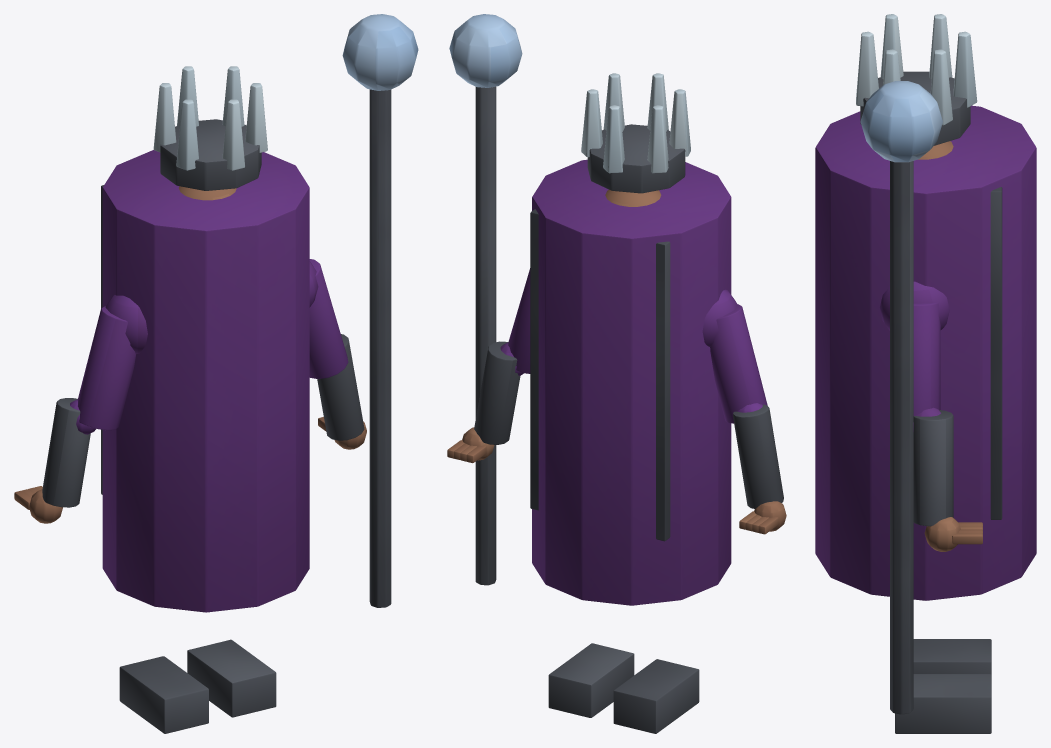
File: unit_veiled_heir.fbx
3 views of the same model, side by side, from view 1: azimuth 30°, elevation 25°; view 2: azimuth 150°, elevation 25°; view 3: azimuth 270°, elevation 25° (orthographic). The views are drawn at different scales.
Visible parts, largest first — view 1: unit_veiled_heir; view 2: unit_veiled_heir; view 3: unit_veiled_heir.
Boxes of the visible parts, x1=… form: unit_veiled_heir: x1=14, y1=14, x2=418, y2=733; unit_veiled_heir: x1=447, y1=14, x2=786, y2=733; unit_veiled_heir: x1=815, y1=14, x2=1036, y2=733.
Size of the model in its own units: 1.29 by 2.25 by 0.6386.
